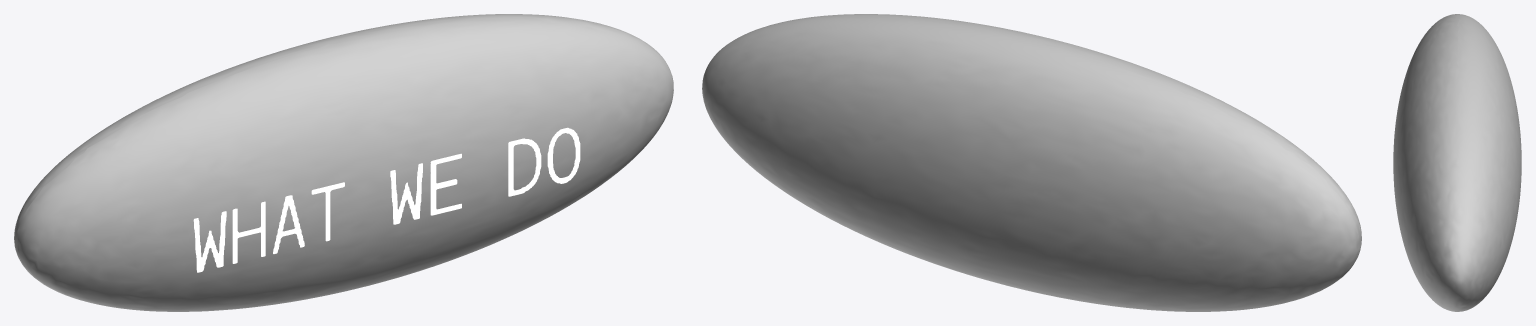
Rendered from vea-iwwd-opt-v2.glb.
3 renders of one model, left to right at view 1: azimuth 30°, elevation 25°; view 2: azimuth 150°, elevation 25°; view 3: azimuth 270°, elevation 25°, orthographic. The views are drawn at different scales.
Parts seen in each view (by area): view 1: Sphere, Plane; view 2: Sphere; view 3: Sphere.
Part boxes in pixels (x1,y1,x2,y2): Sphere: [14, 14, 673, 311]; Plane: [193, 127, 580, 272]; Sphere: [702, 14, 1361, 311]; Sphere: [1393, 14, 1521, 311].
Bounding box in the file's own units: 4.36 × 1.55 × 1.02.
2 materials, 1 textured.
